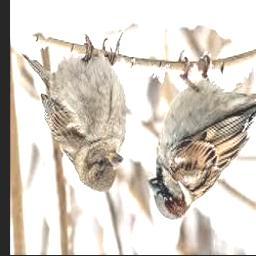Sparrow: (148, 50, 256, 221), (22, 32, 127, 193)
